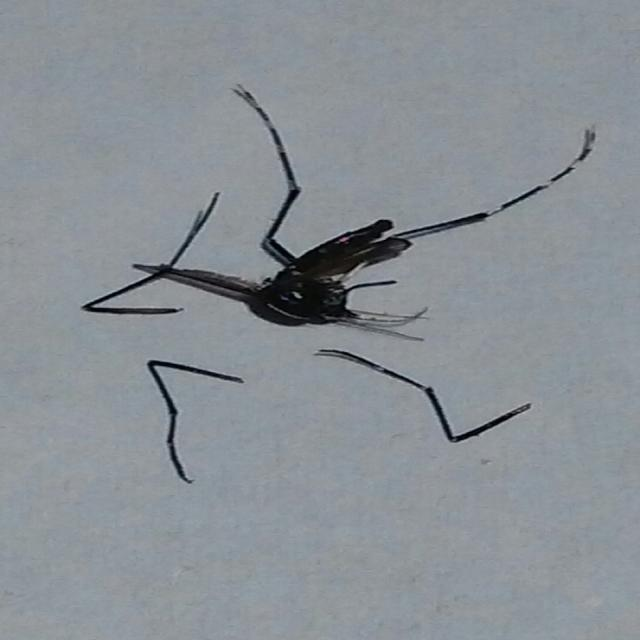albopictus: (82, 72, 606, 410)
